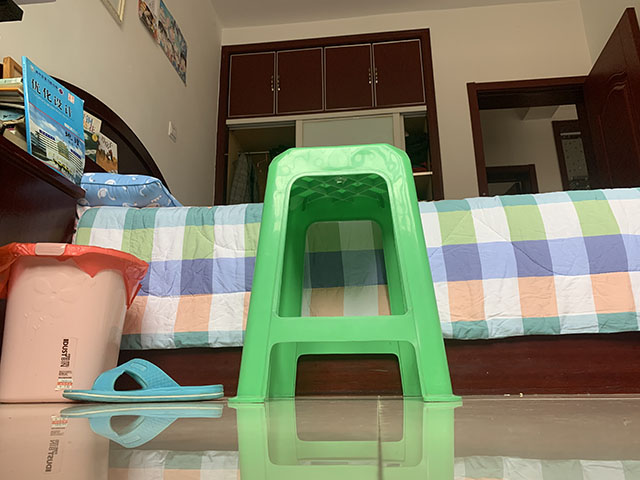bed: (49, 74, 640, 400)
slippers: (62, 356, 225, 405)
stool: (226, 143, 463, 404)
trash can: (1, 241, 152, 405)
